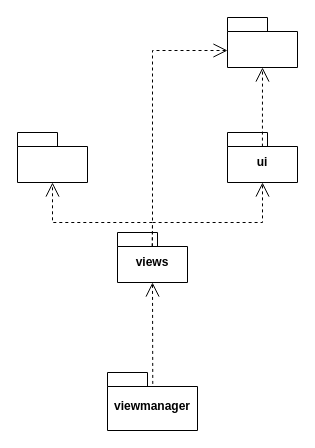
The diagram is 315 pixels wide and 448 high, and some of its shapes have lost their labels. The shapes that lost their labels are listed below. From the top down, each one's centre as x and y in pixels, then its label:
At pixel 262 42: "storage".
At pixel 52 157: "sprites".
